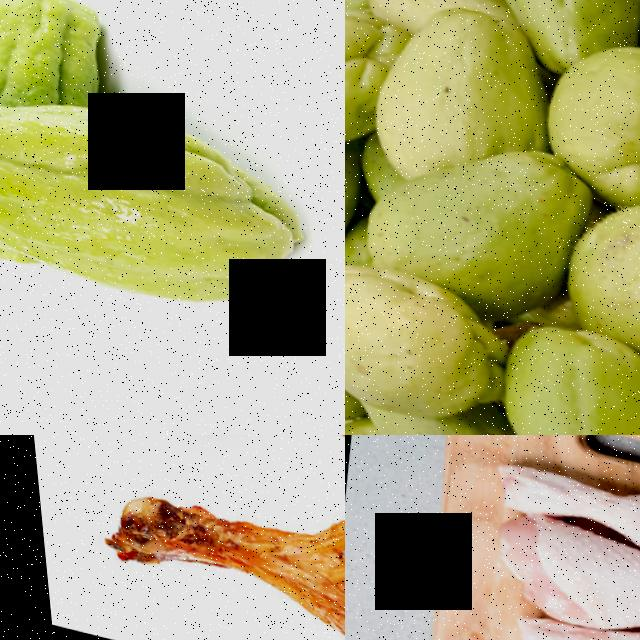chayote: (0, 38, 323, 308), (352, 148, 555, 300), (375, 0, 530, 144), (472, 305, 640, 435), (345, 287, 489, 435), (532, 23, 640, 199), (0, 0, 112, 112)
chicken thigh: (65, 435, 345, 640), (477, 435, 640, 598), (475, 507, 640, 640)
